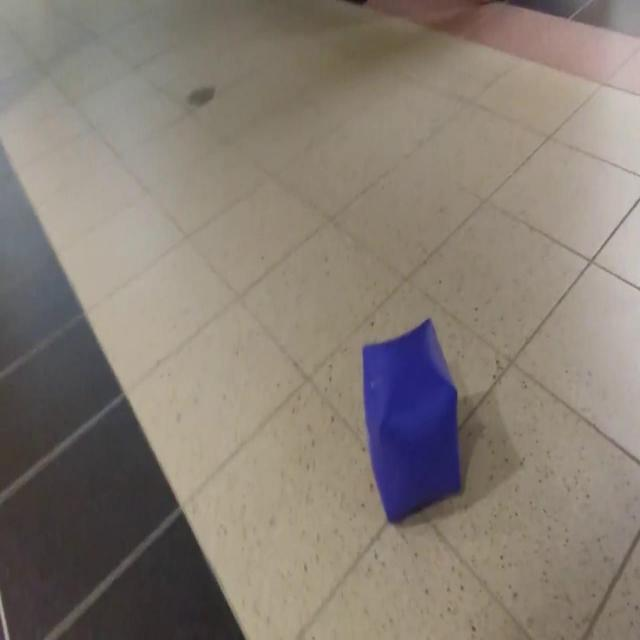frc_cube: (363, 316, 463, 524)
